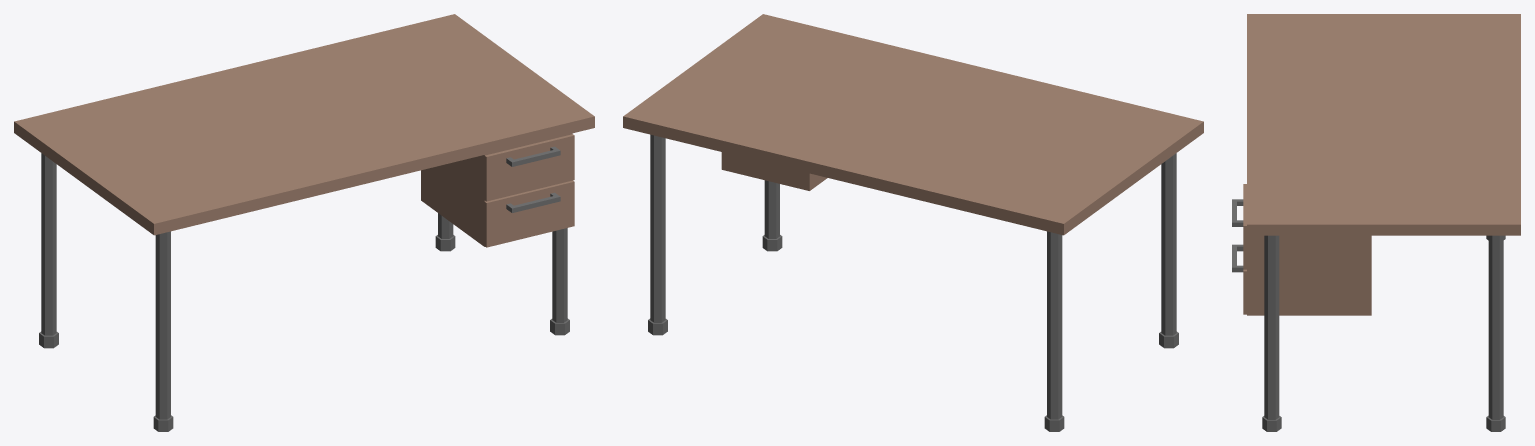
The model's file is table3.fbx.
The picture shows the model from 3 angles, left to right: view 1: azimuth 30°, elevation 25°; view 2: azimuth 150°, elevation 25°; view 3: azimuth 270°, elevation 25°; orthographic projection. The views are drawn at different scales.
Parts seen in each view (by area): view 1: Cube.006; view 2: Cube.006; view 3: Cube.006.
Part boxes in pixels (x1,y1,x2,y2): Cube.006: (14, 14, 594, 431); Cube.006: (623, 14, 1203, 431); Cube.006: (1232, 14, 1520, 431).
Size of the model in its own units: 200 by 95 by 116.
